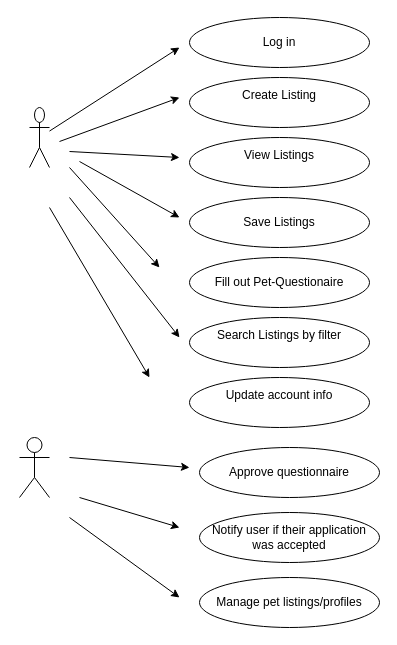
This 397x645 diagram has some shape labels left out. The centre of each missing label's shape, as x and y in pixels:
Admin: the point at 34,467
User: the point at 39,137
